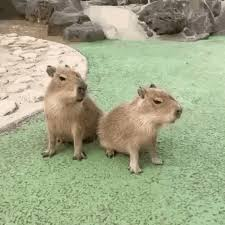capivara: (96, 82, 184, 175), (40, 63, 106, 163)
